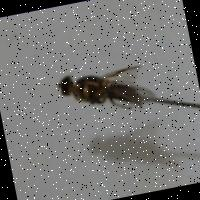Oriental-fruit-fly: (40, 51, 154, 135)
